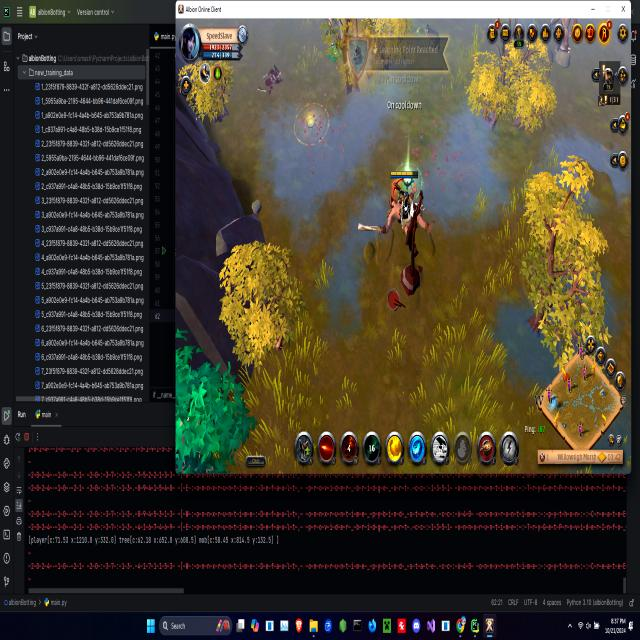hide: (328, 38, 346, 68)
ore: (421, 21, 445, 59)
red: (385, 166, 421, 219)
wisp caged: (176, 319, 258, 471)
